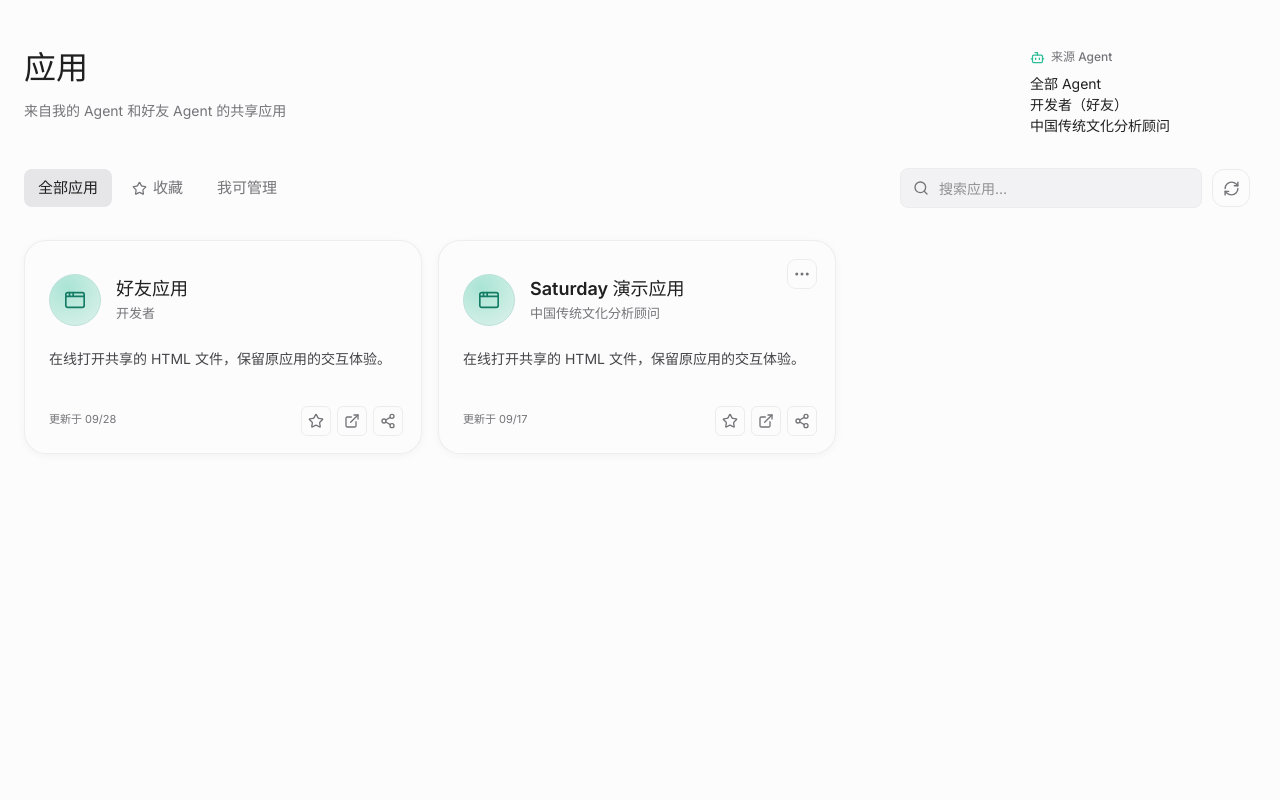
Test: AppsView › surfaces a copy failure with the address so the user can copy it manually
Click the button named "复制 Saturday 演示应用 的分享链接". click: (802, 421)
box: top-left (787, 406), bottom-right (817, 436)
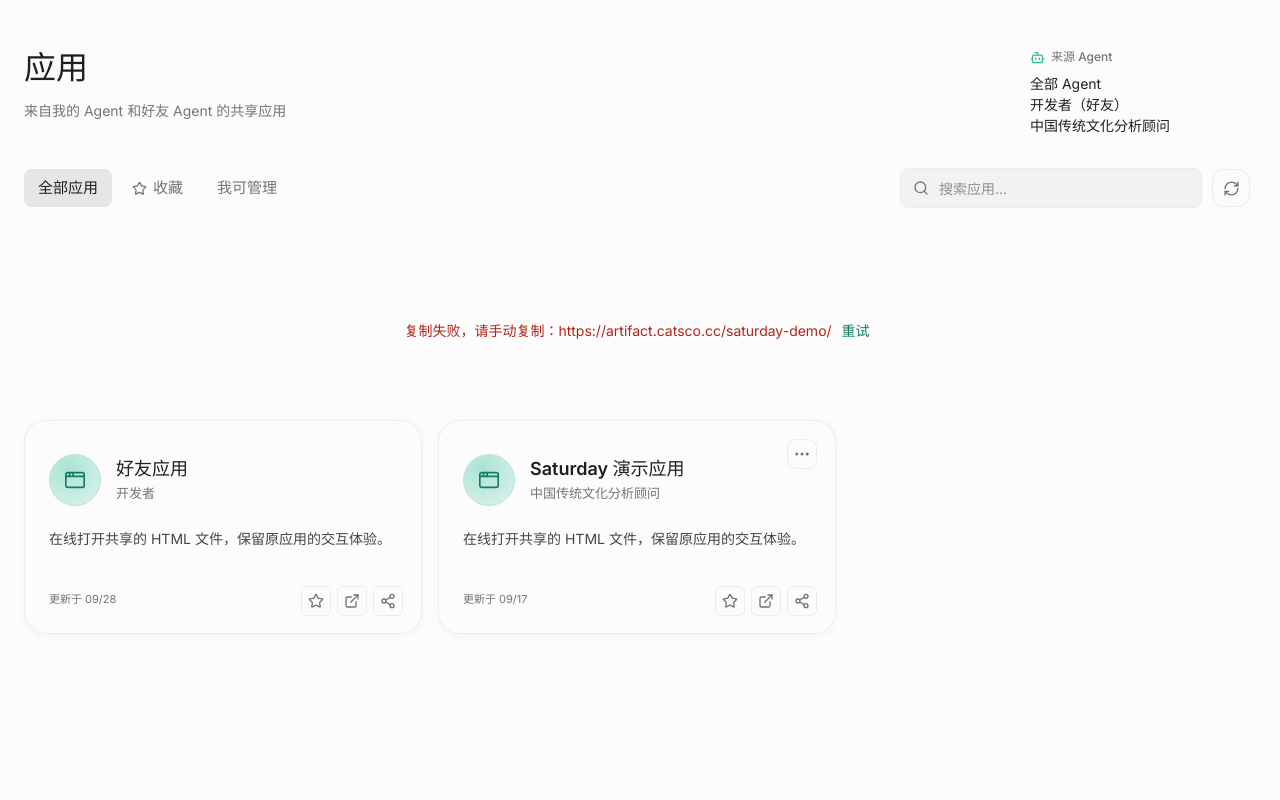
Check: the text "https://artifact.catsco.cc/saturday-demo/" is shown, box top-left (404, 322), bottom-right (832, 338)
